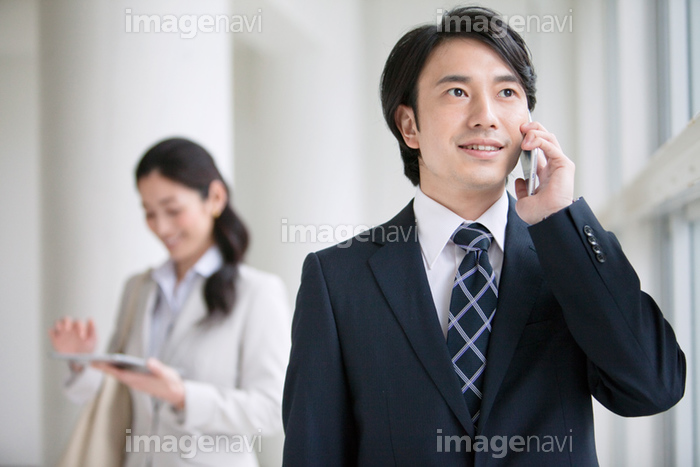phone: (504, 113, 569, 201)
talk: (417, 69, 579, 217)
